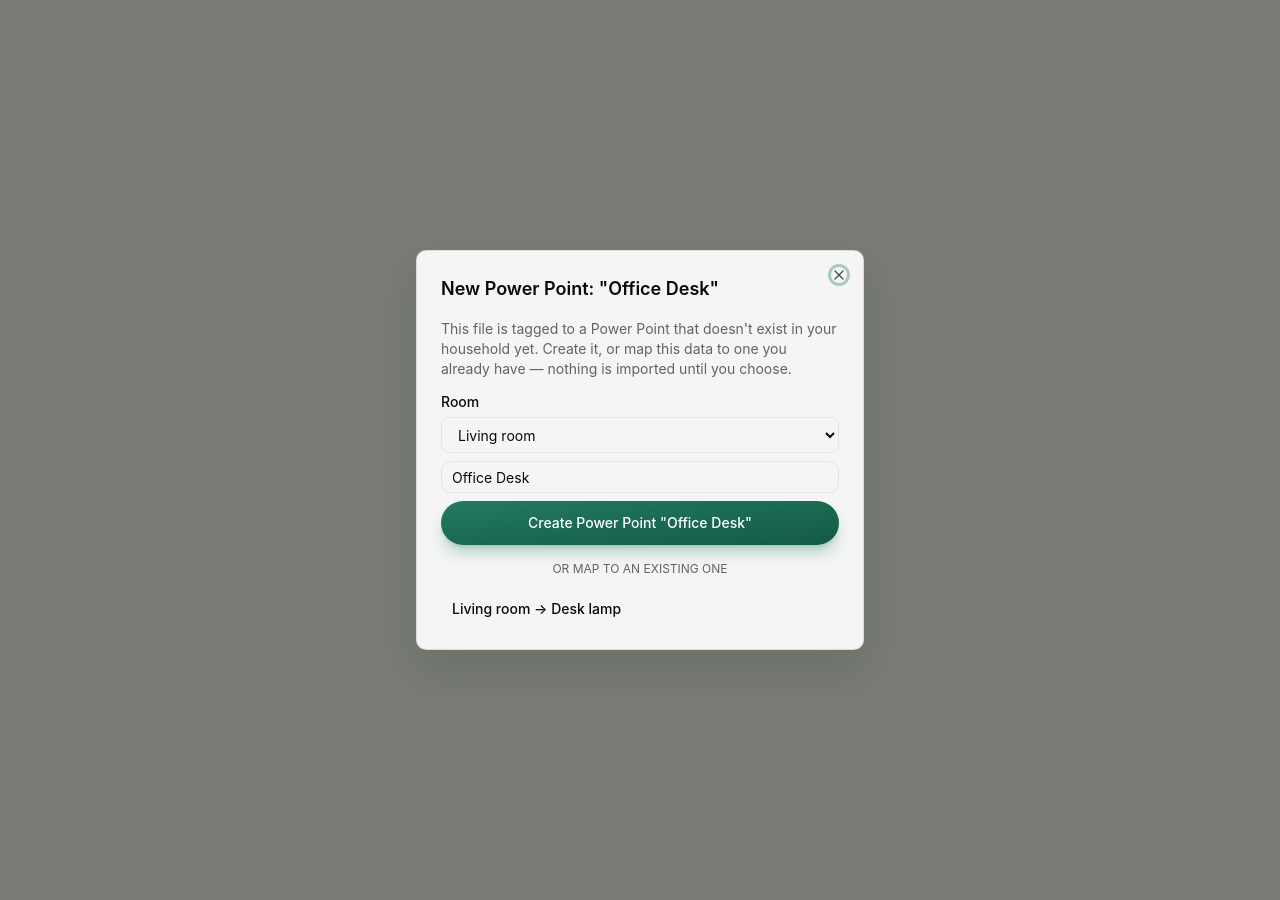
Test: PowerPointMappingDialog › surfaces a duplicate-name error from CreatePowerPoint inline rather than closing the dialog
Check: the field showing "Office Desk" is shown, box [441, 461, 839, 493]
Click the button "Create Power Point \"Office Desk\"": (640, 523) [441, 501, 839, 545]
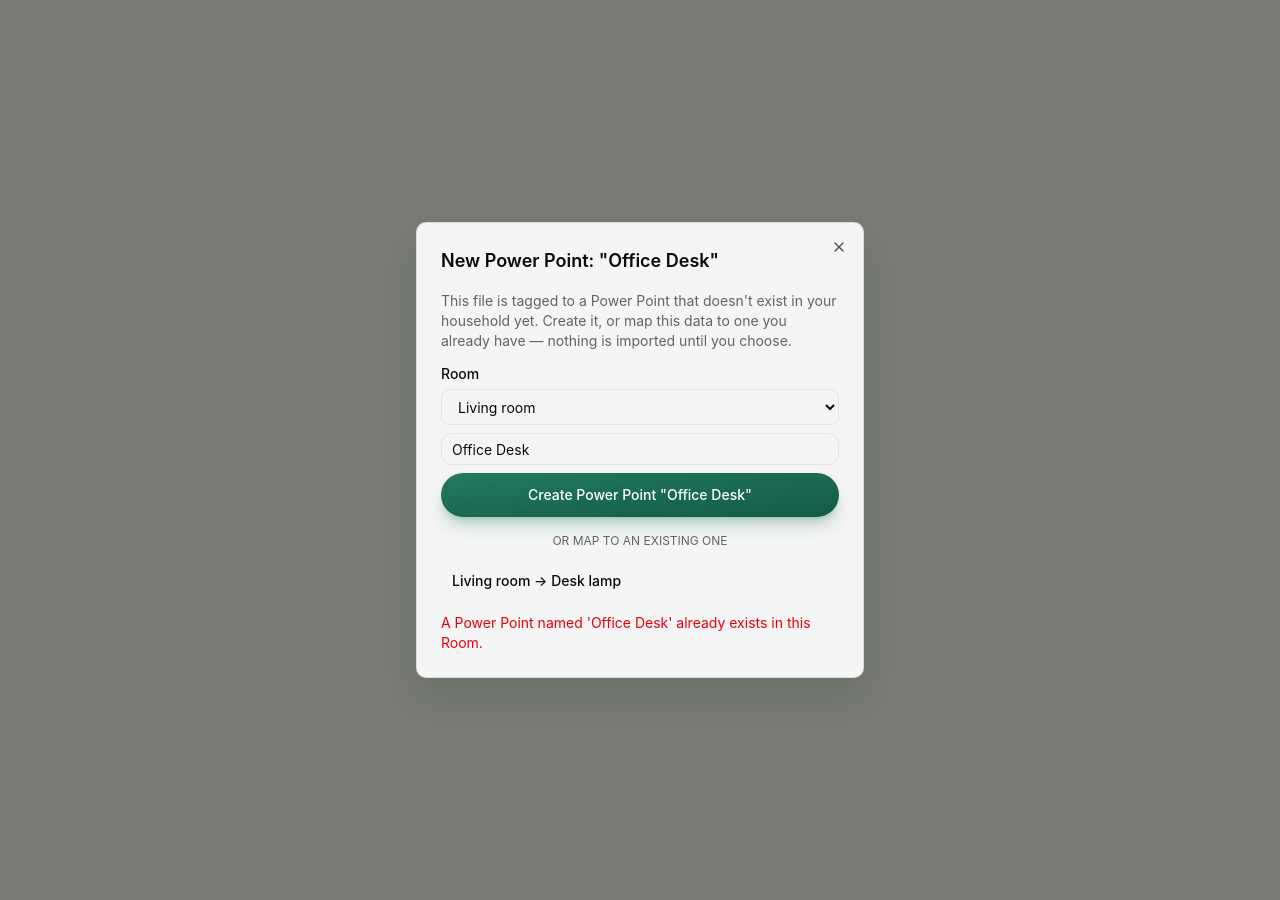
Check: the text "A Power Point named 'Office Desk' already exists in this Room." is shown, box [441, 613, 839, 653]
